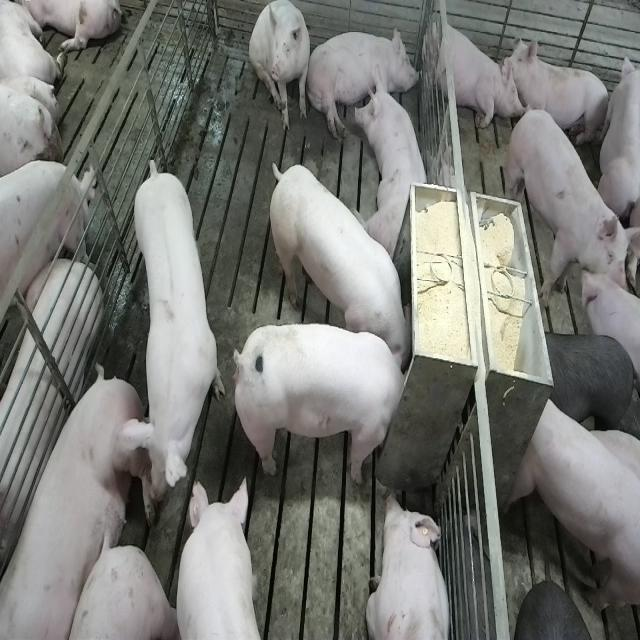Feeding: (264, 160, 412, 370), (229, 321, 409, 483)
Lateral_lying: (4, 368, 162, 640), (0, 259, 102, 597), (306, 24, 420, 140)
Sitting: (249, 2, 312, 134)
Standing: (128, 155, 220, 502), (508, 394, 638, 614), (504, 110, 630, 316), (0, 163, 94, 351), (177, 476, 273, 640), (544, 326, 637, 441)
Sternal_lying: (355, 71, 433, 259), (366, 490, 452, 640), (506, 34, 610, 150), (424, 13, 516, 133)
